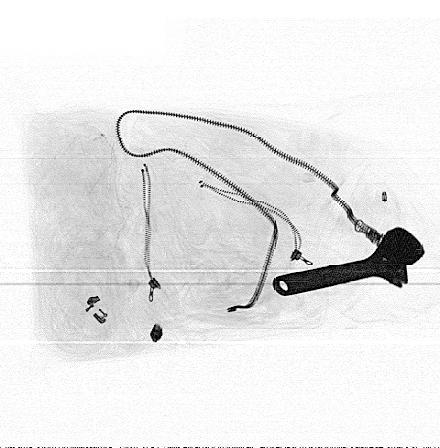Wrench: (270, 227, 424, 297)
